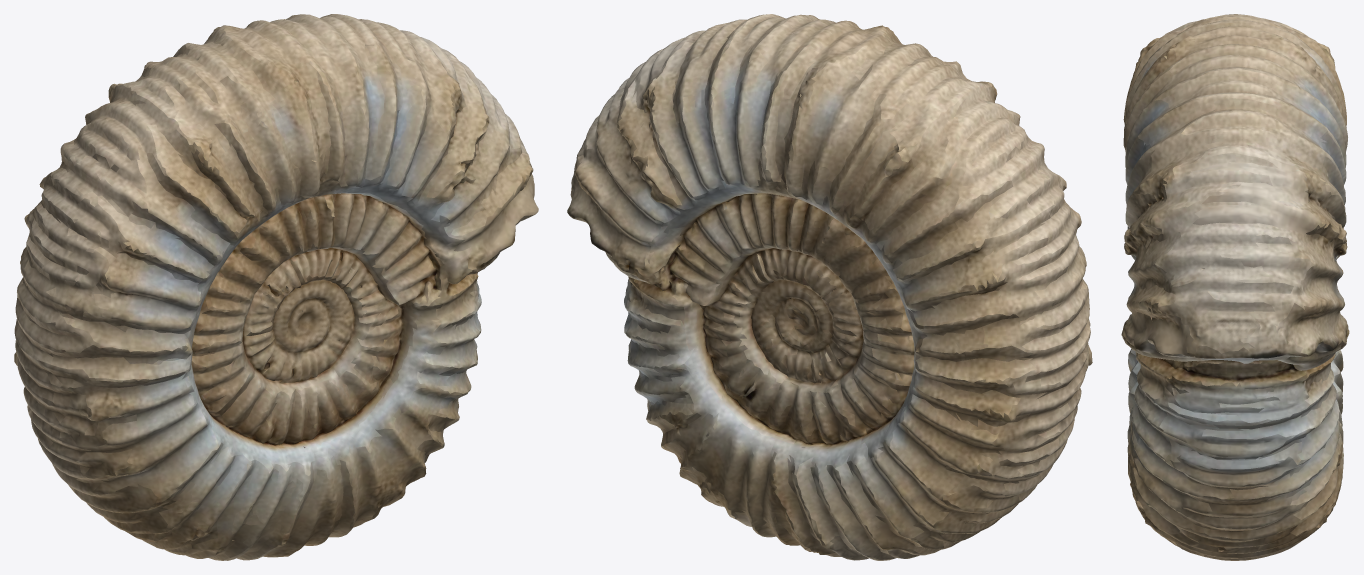
The model's file is ammonite.glb.
The picture shows the model from 3 angles, left to right: view 1: azimuth 30°, elevation 25°; view 2: azimuth 150°, elevation 25°; view 3: azimuth 270°, elevation 25°; orthographic projection. The views are drawn at different scales.
Visible parts, largest first — view 1: world; view 2: world; view 3: world.
Boxes of the visible parts, <box> form: world: <box>14,14,538,560</box>; world: <box>567,14,1092,560</box>; world: <box>1121,14,1349,560</box>.
Size of the model in its own units: 0.18 by 0.1801 by 0.0748.
1 material, 1 textured.
